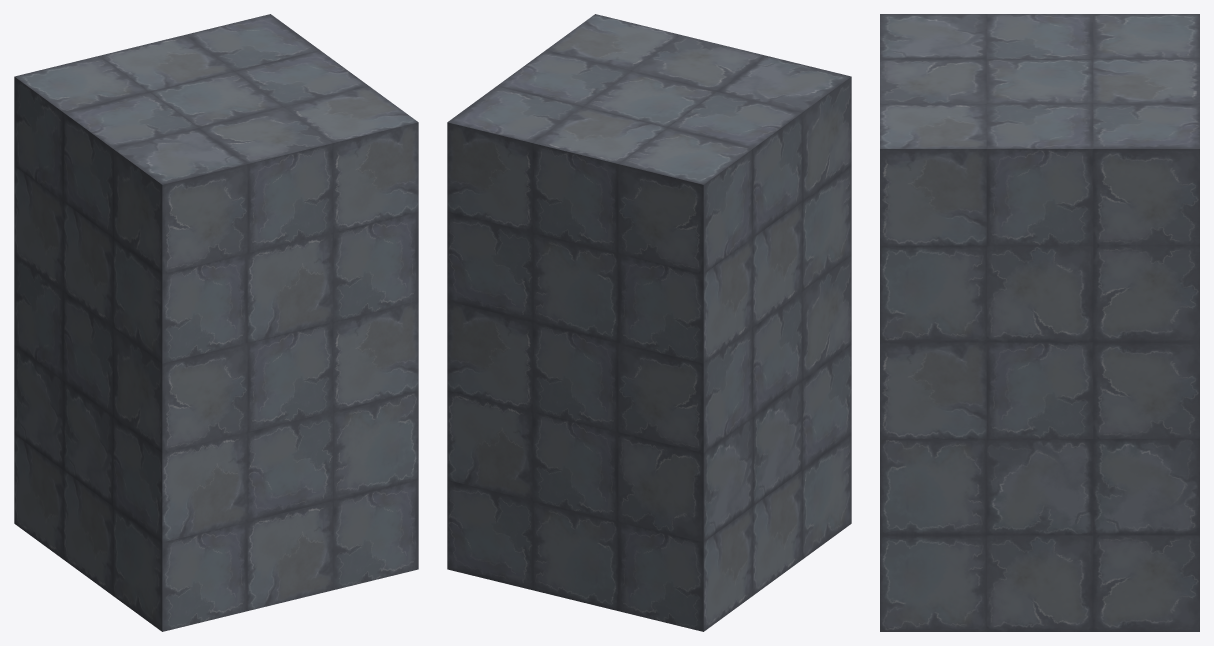
File: Castle Block 3x3x5.fbx
3 views of the same model, side by side, from view 1: azimuth 30°, elevation 25°; view 2: azimuth 150°, elevation 25°; view 3: azimuth 270°, elevation 25° (orthographic). The views are drawn at different scales.
Visible parts, largest first — view 1: Castle Block 3x3x5; view 2: Castle Block 3x3x5; view 3: Castle Block 3x3x5.
Part boxes in pixels (x1,y1,x2,y2): Castle Block 3x3x5: (14,14,418,631); Castle Block 3x3x5: (447,14,851,631); Castle Block 3x3x5: (880,14,1199,631).
Bounding box in the file's own units: 2.25 × 3.75 × 2.25.
